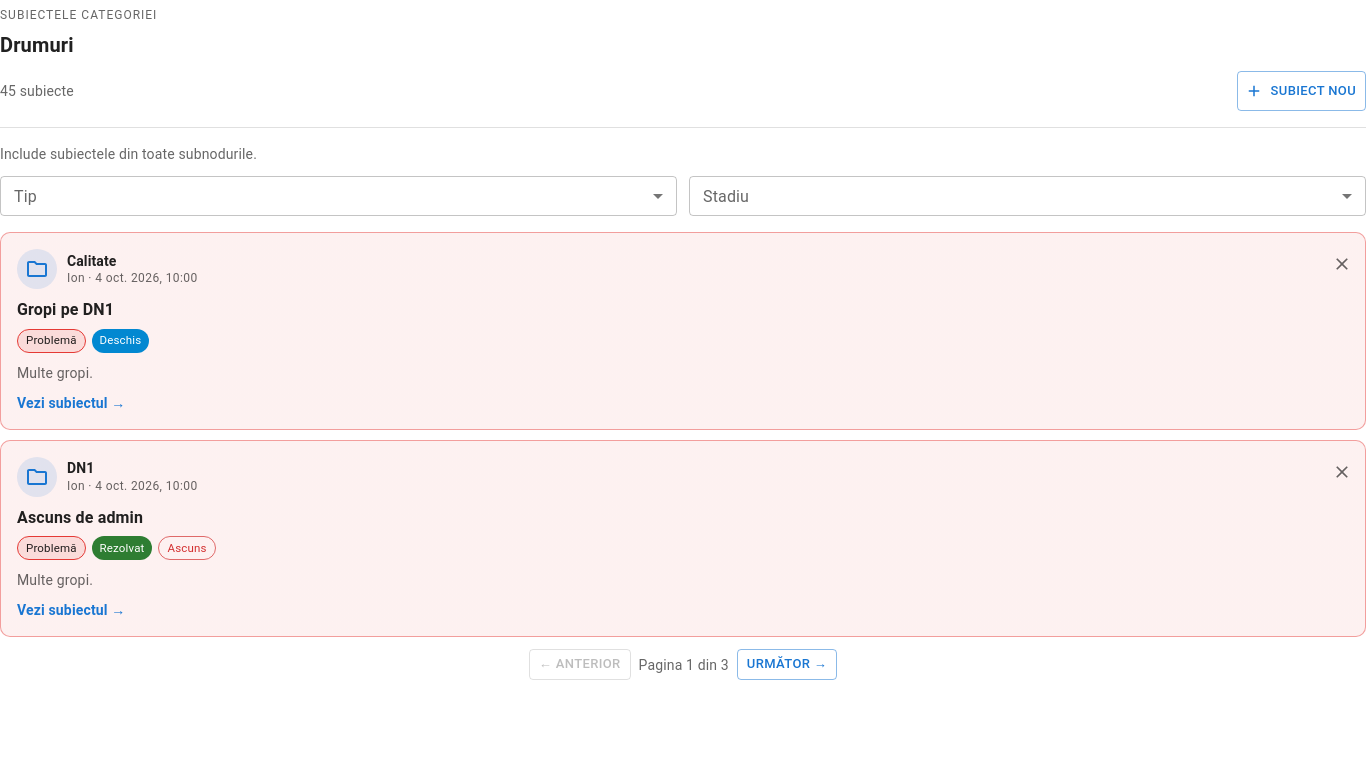
Test case: utilizatorul creeaza un subiect in nodul selectat; lista se reincarca
Expected: the text "Gropi pe DN1" is shown, x1=17 y1=300 x2=114 y2=319
Click the button "Subiect nou" at (1301, 91), box x1=1237 y1=71 x2=1365 y2=111
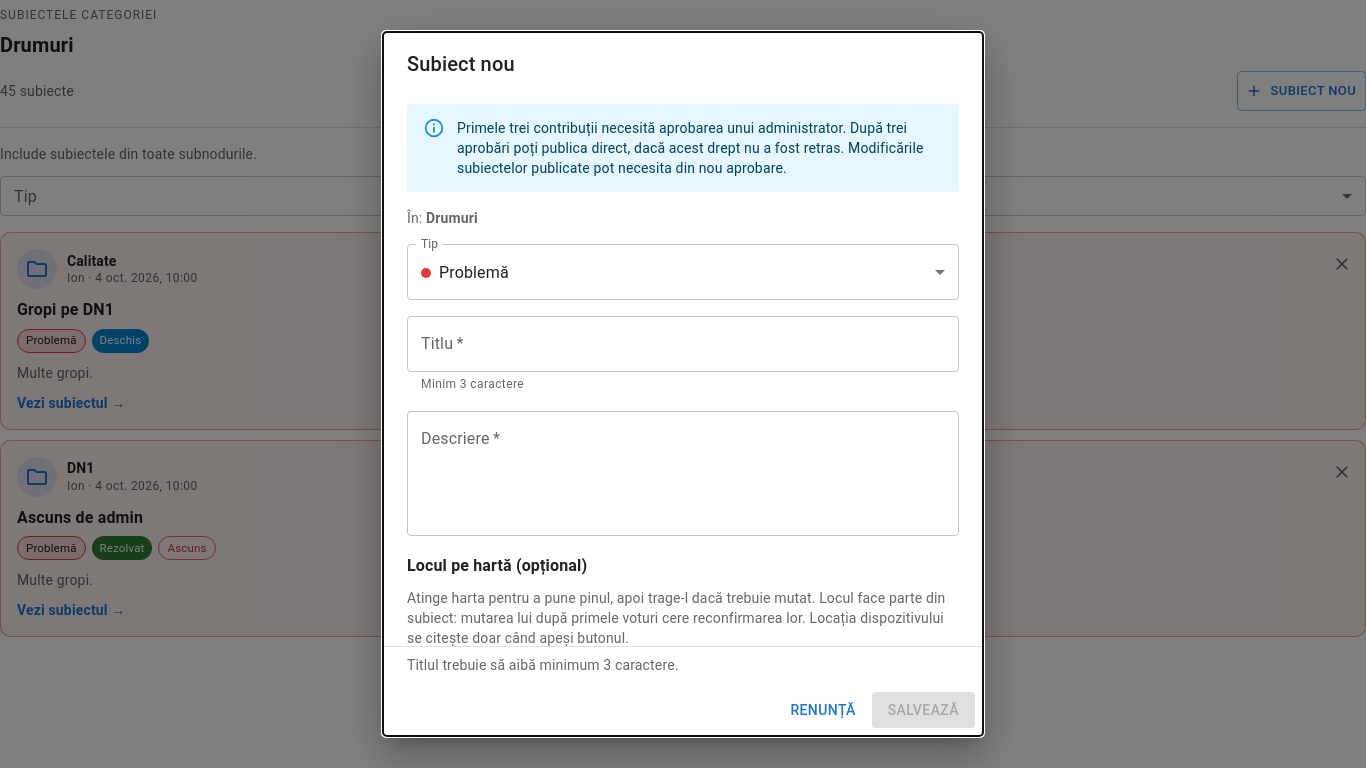
Expected: the text "Drumuri" is shown, x1=426 y1=210 x2=478 y2=226
Type "Trotuar spart" into the field labelled "Titlu *" at (683, 344), box x1=407 y1=316 x2=959 y2=372
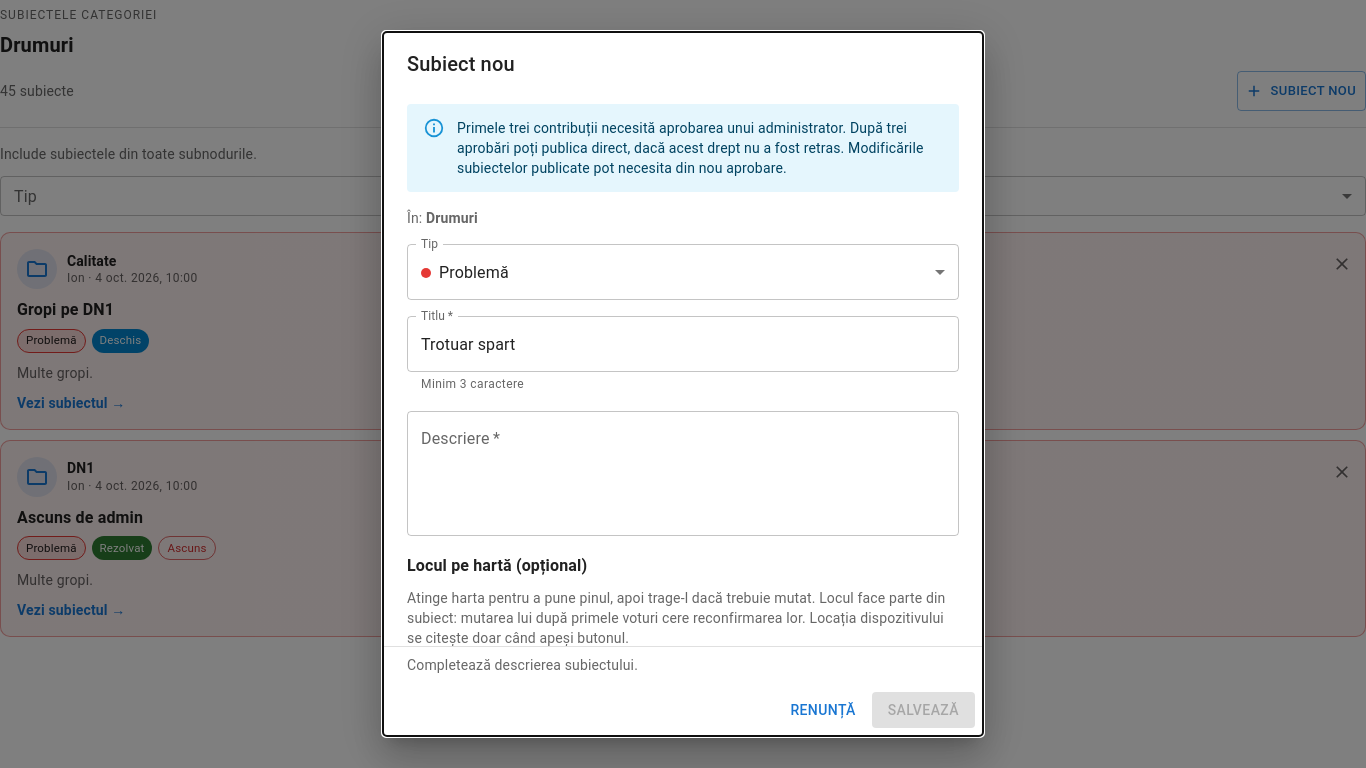
Type "Lângă școală." into the text box labelled "Descriere *" at (683, 474), box x1=421 y1=428 x2=945 y2=520
(page scrolled)
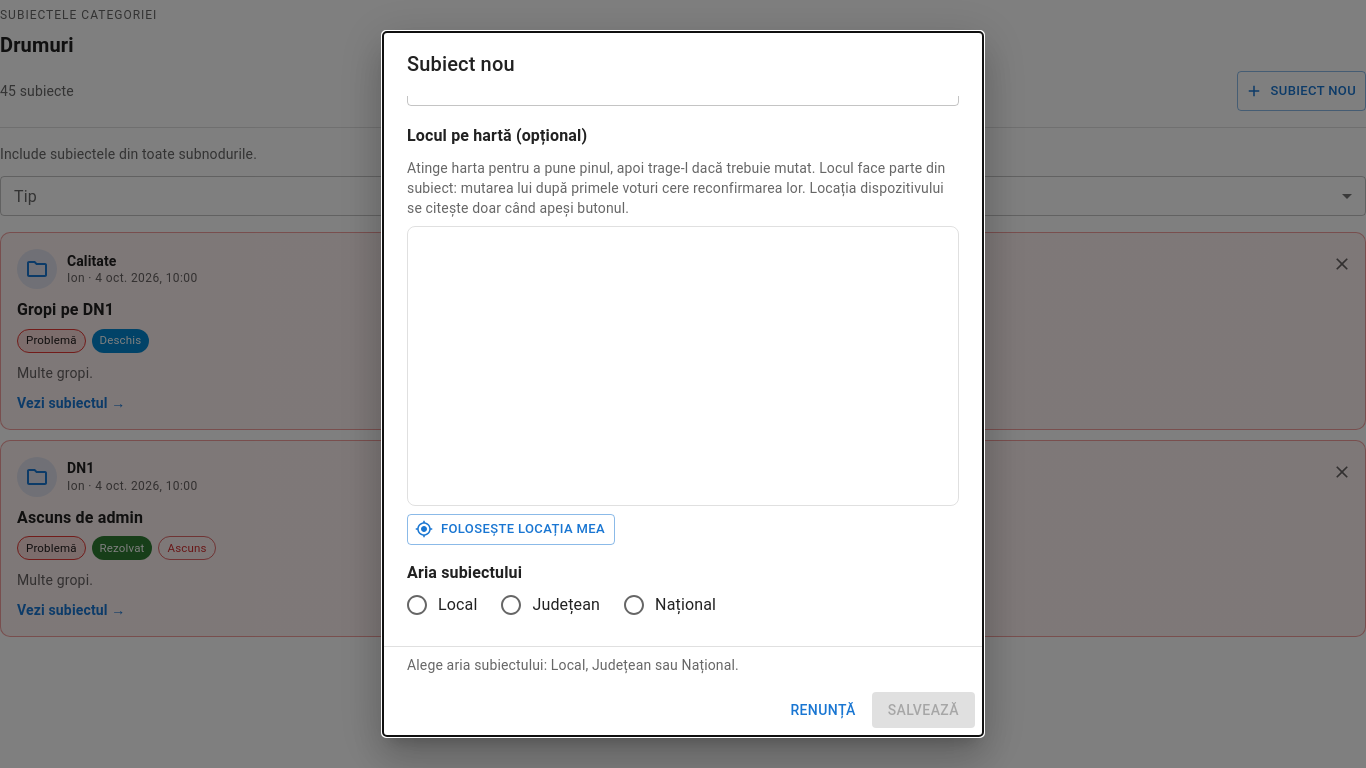
Click the radio button labelled "Național" at (669, 605), box x1=622 y1=593 x2=716 y2=617
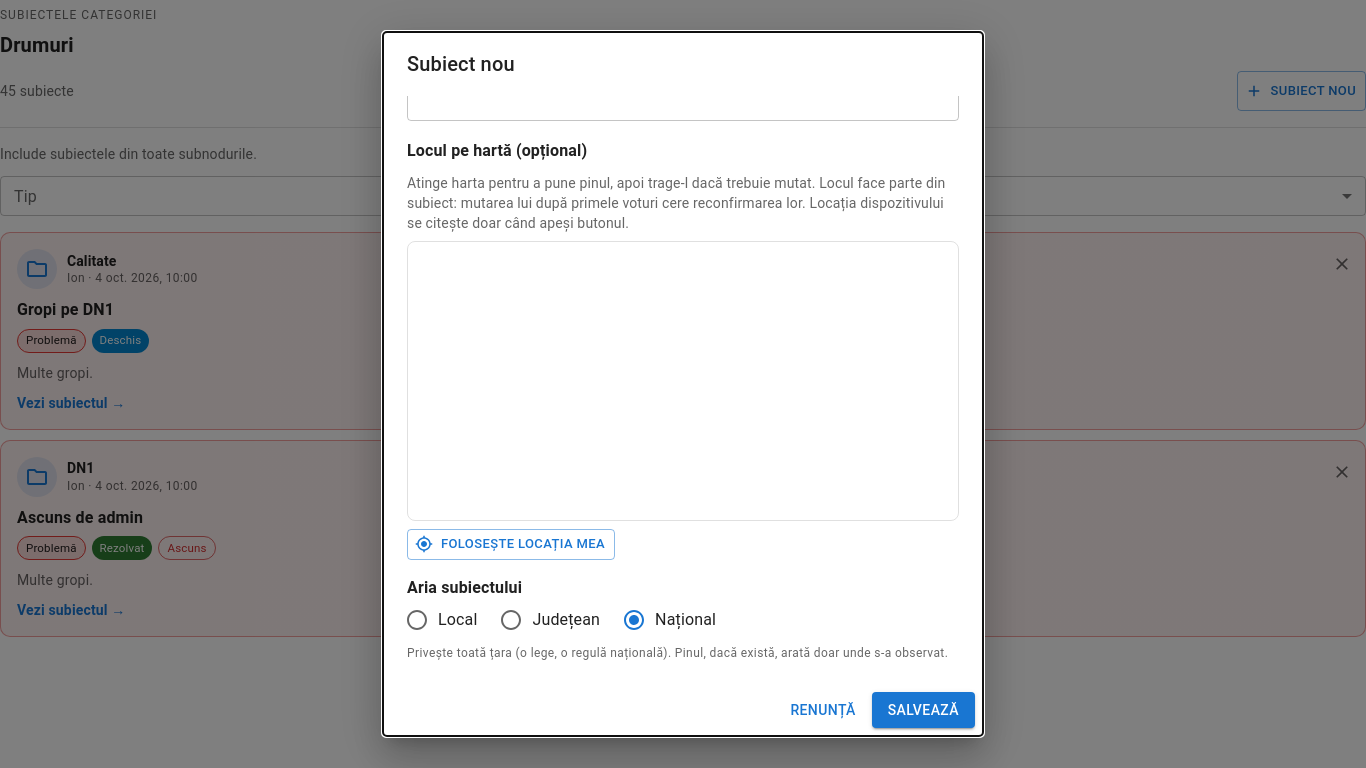
Click the button "Salvează" at (923, 710), box x1=872 y1=692 x2=975 y2=728
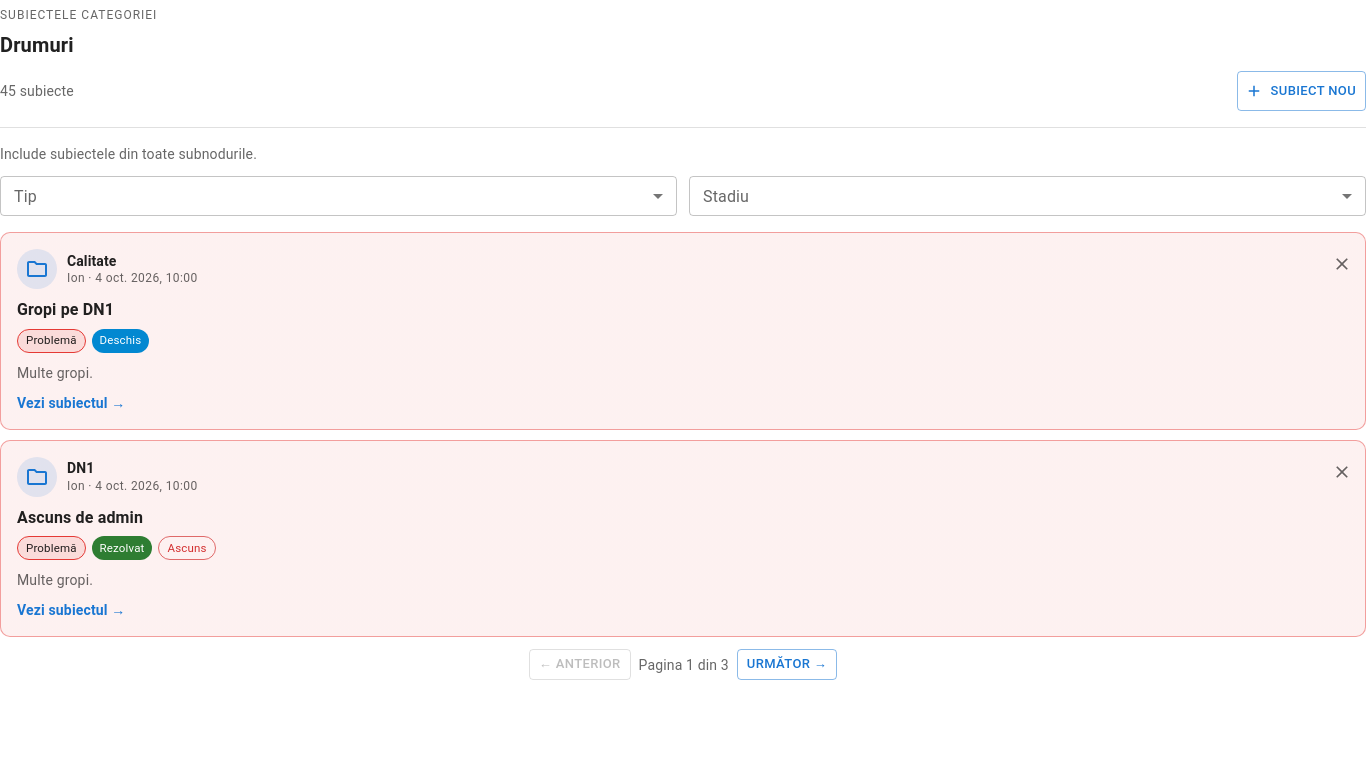
Expected: the dialog is gone
